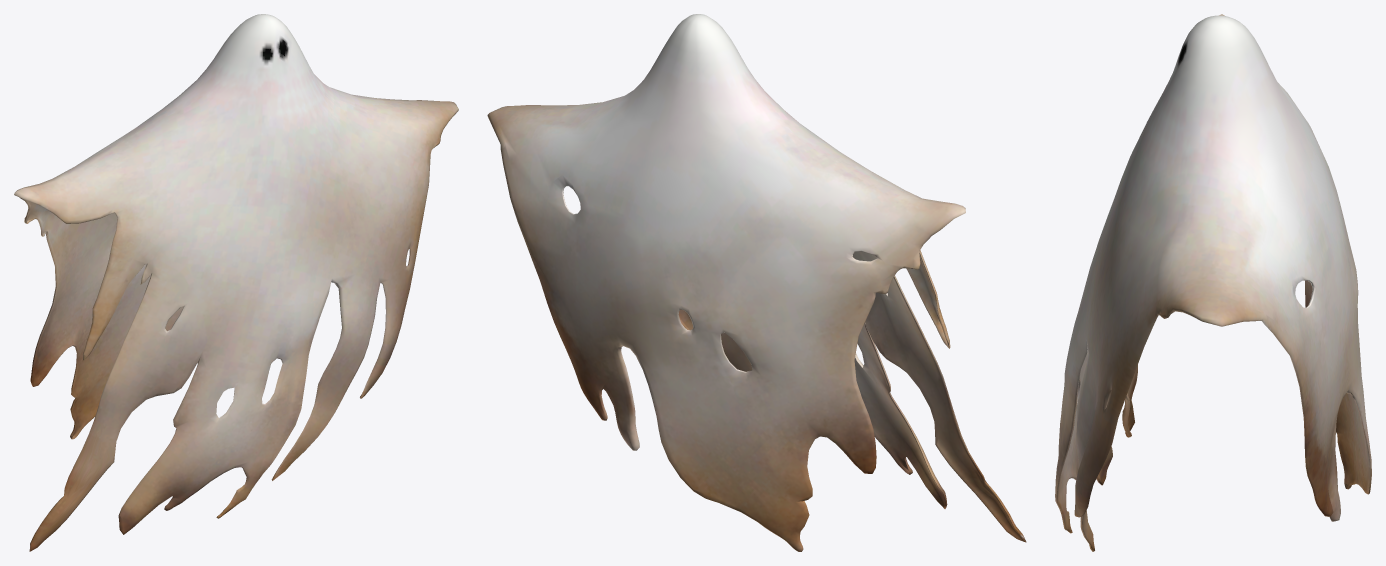
The model's file is Ghost (HoloLens).fbx.
The picture shows the model from 3 angles, left to right: view 1: azimuth 30°, elevation 25°; view 2: azimuth 150°, elevation 25°; view 3: azimuth 270°, elevation 25°; orthographic projection. The views are drawn at different scales.
Parts seen in each view (by area): view 1: node_id5; view 2: node_id5; view 3: node_id5.
Boxes of the visible parts, x1=… form: node_id5: x1=14, y1=14, x2=458, y2=551; node_id5: x1=487, y1=14, x2=1026, y2=551; node_id5: x1=1055, y1=14, x2=1371, y2=551.
Bounding box in the file's own units: 0.512 × 0.4715 × 0.229.
Materials: 1 (1 with a texture image).
